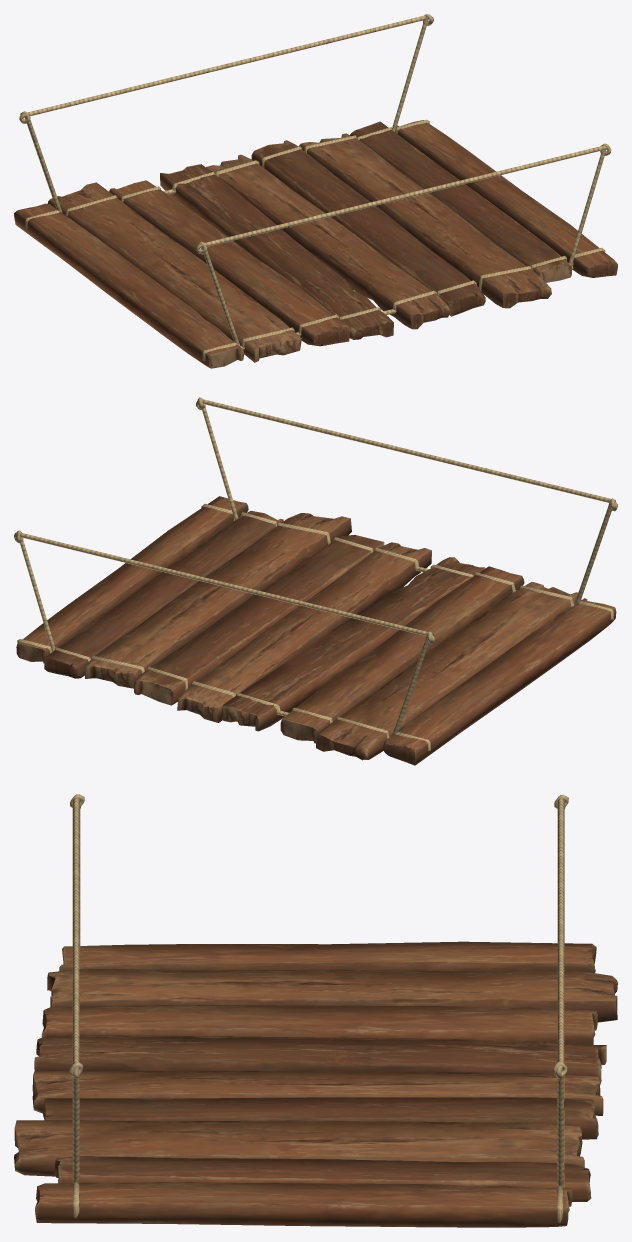
The model's file is SM_Farm_Bridge_Middle_01.fbx.
3 renders of one model, top to bottom at view 1: azimuth 30°, elevation 25°; view 2: azimuth 150°, elevation 25°; view 3: azimuth 270°, elevation 25°, orthographic. The views are drawn at different scales.
Visible parts, largest first — view 1: SM_Farm_Bridge_Middle_01_LOD0; view 2: SM_Farm_Bridge_Middle_01_LOD0; view 3: SM_Farm_Bridge_Middle_01_LOD0.
Boxes of the visible parts, left/top/right/bottom form: SM_Farm_Bridge_Middle_01_LOD0: left=14, top=14, right=617, bottom=368; SM_Farm_Bridge_Middle_01_LOD0: left=14, top=397, right=617, bottom=765; SM_Farm_Bridge_Middle_01_LOD0: left=14, top=794, right=617, bottom=1227.
Bounding box in the file's own units: 365 × 108 × 339.
